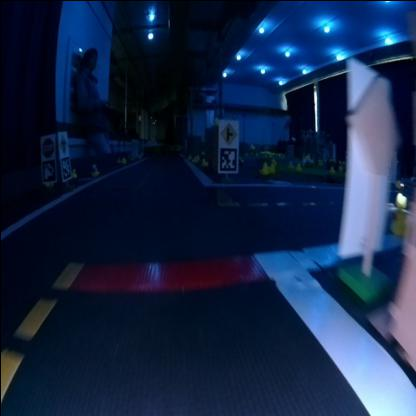Duckie: (388, 209, 405, 233), (89, 162, 98, 171), (259, 162, 267, 171), (69, 166, 75, 174), (268, 162, 274, 170), (200, 156, 206, 164), (191, 154, 196, 161), (296, 163, 300, 170)
Intersection sign: (218, 119, 236, 144), (56, 129, 68, 153)
QR code: (218, 144, 236, 170), (42, 162, 55, 180), (60, 156, 70, 178)
